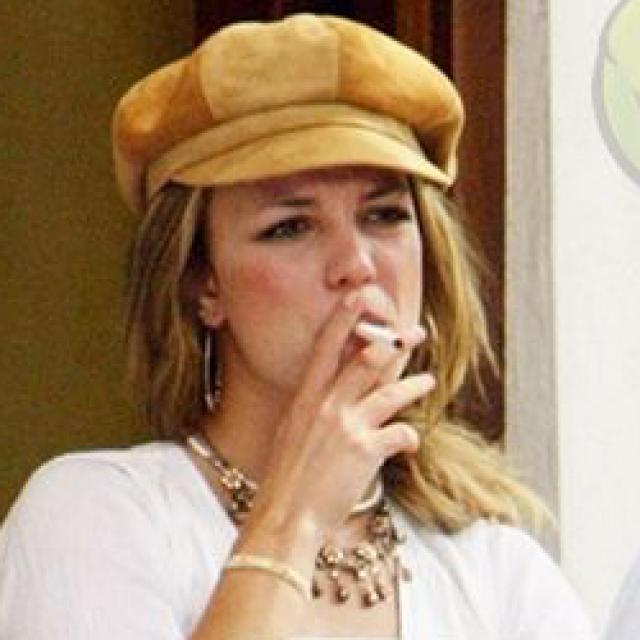Smooking: (344, 309, 410, 359)
